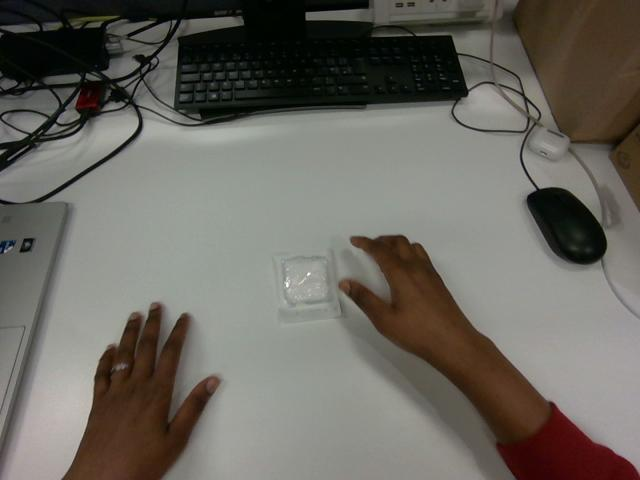gauze: (274, 250, 340, 322)
